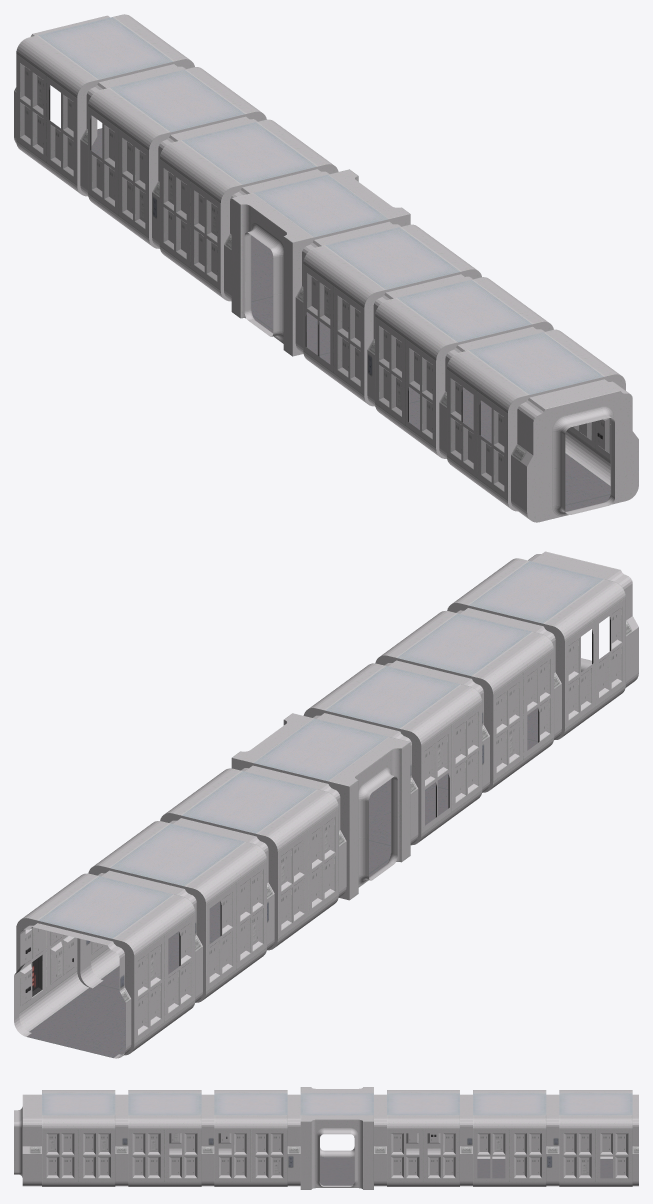
The model's file is thm_spc_corvette_dungeon_r3_hall3_mesh_r3.fbx.
3 renders of one model, top to bottom at view 1: azimuth 30°, elevation 25°; view 2: azimuth 150°, elevation 25°; view 3: azimuth 270°, elevation 25°, orthographic. The views are drawn at different scales.
Visible parts, largest first — view 1: mesh_node; view 2: mesh_node; view 3: mesh_node.
Boxes of the visible parts, <box> form: mesh_node: <box>14,14,638,522</box>; mesh_node: <box>14,551,638,1058</box>; mesh_node: <box>14,1087,638,1189</box>.
Size of the model in its own units: 4 by 3.5 by 29.
